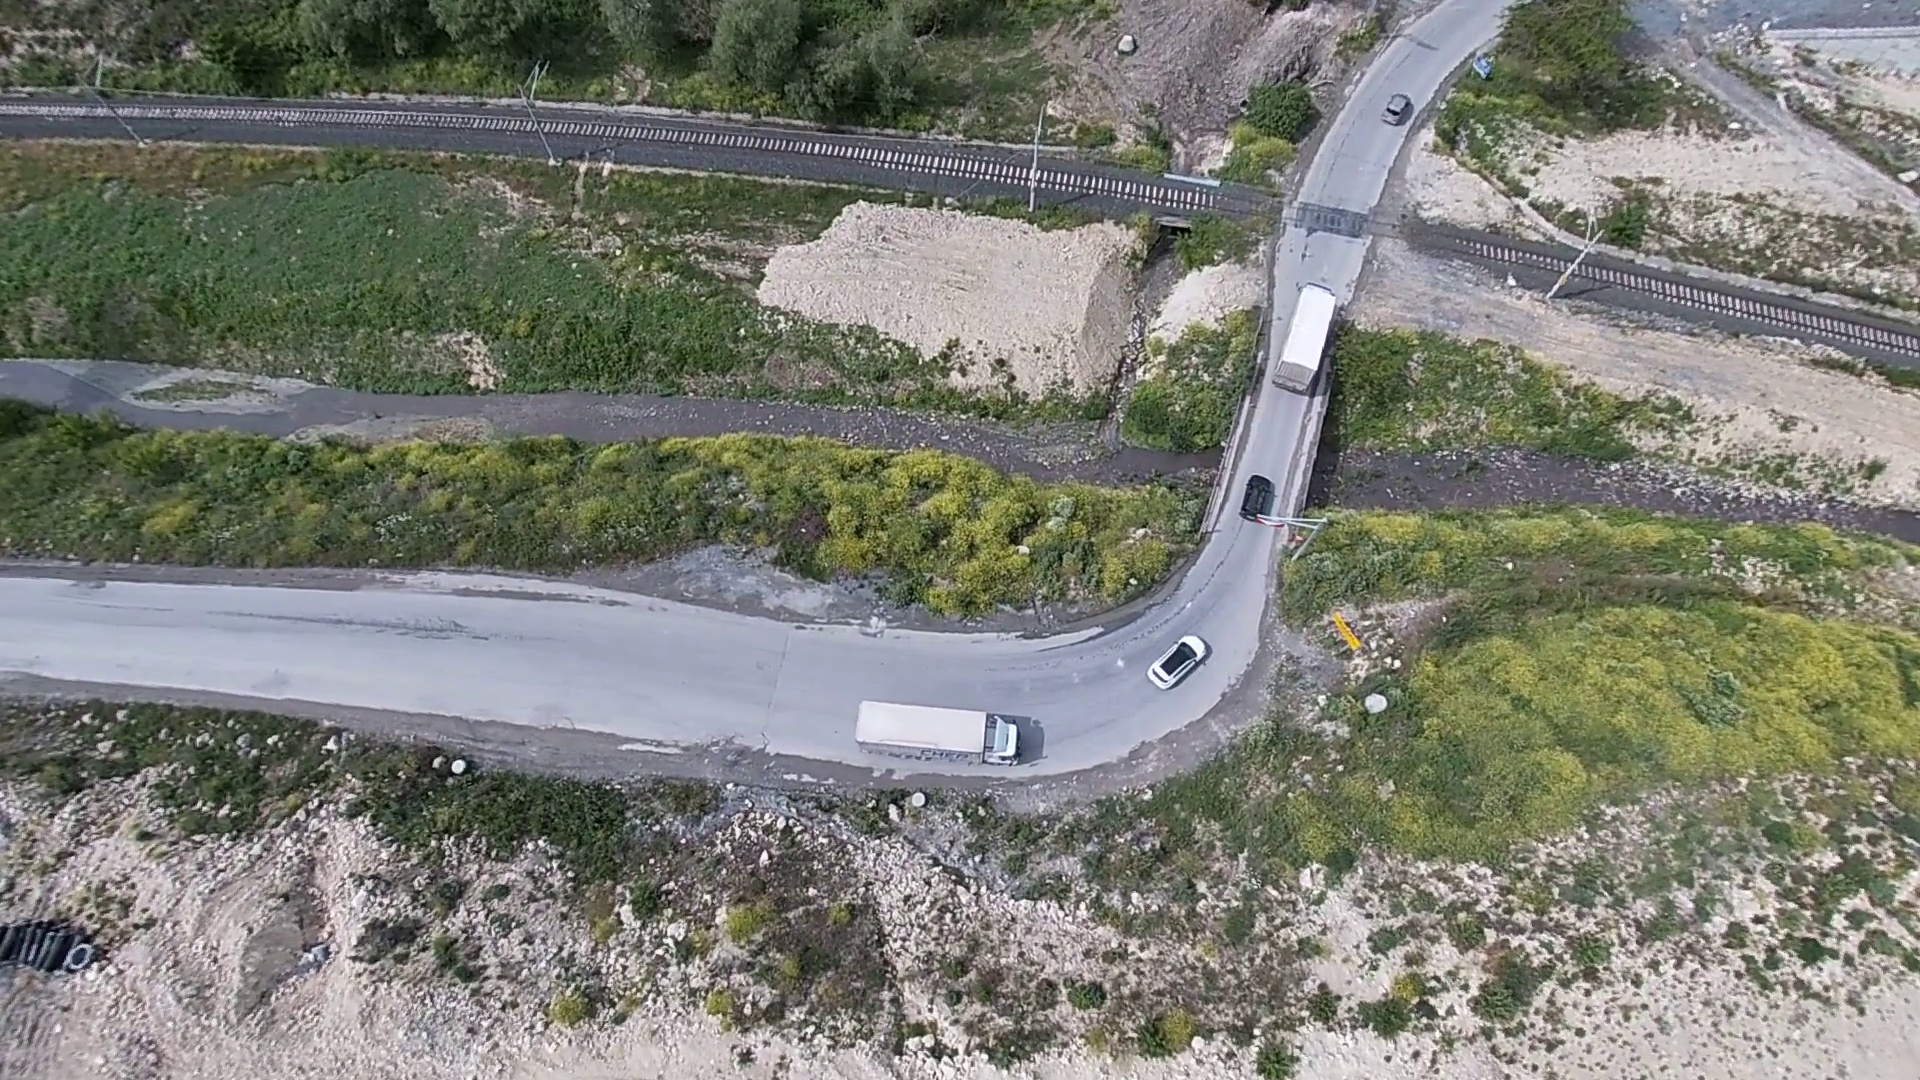arac: (858, 698, 1054, 754), (1269, 274, 1338, 394), (1145, 629, 1216, 694), (1244, 469, 1276, 533), (1385, 94, 1414, 133)
